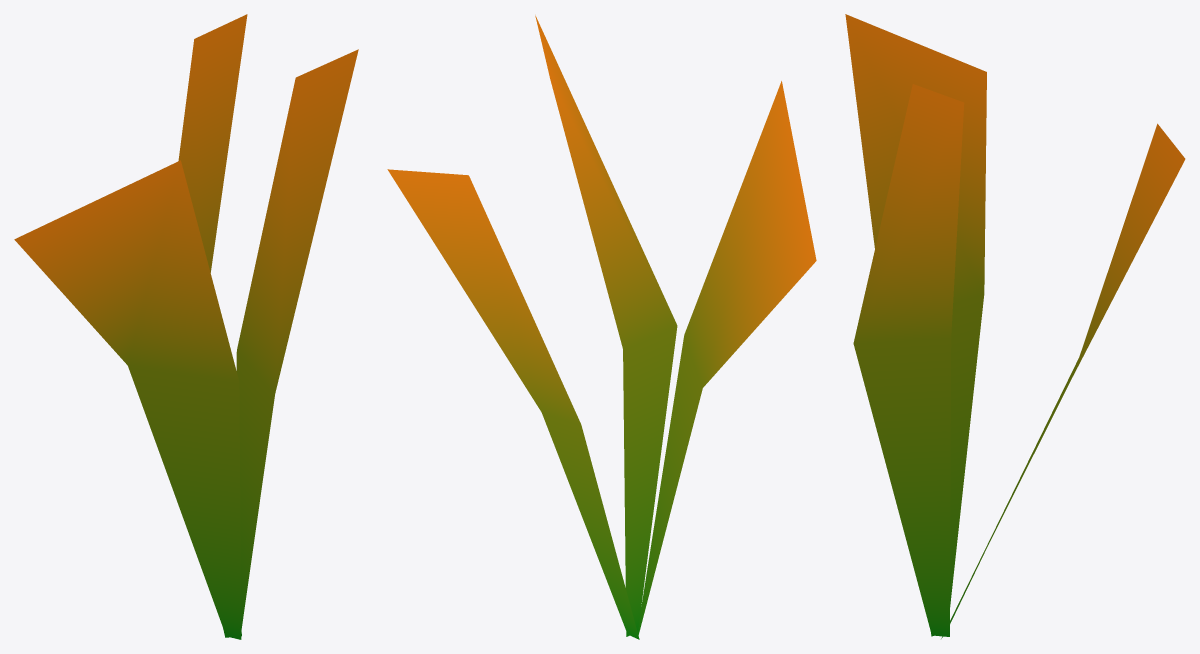
File: Common Eelgrass_LOD3_Var5_sjglk.fbx
3 renders of one model, left to right at view 1: azimuth 30°, elevation 25°; view 2: azimuth 150°, elevation 25°; view 3: azimuth 270°, elevation 25°, orthographic. The views are drawn at different scales.
Visible parts, largest first — view 1: _b962_Var5_LOD3; view 2: _b962_Var5_LOD3; view 3: _b962_Var5_LOD3.
Boxes of the visible parts, <box> form: _b962_Var5_LOD3: <box>14,14,358,639</box>; _b962_Var5_LOD3: <box>387,15,816,639</box>; _b962_Var5_LOD3: <box>845,14,1185,638</box>.
Size of the model in its own units: 59.41 by 99.39 by 50.22.
